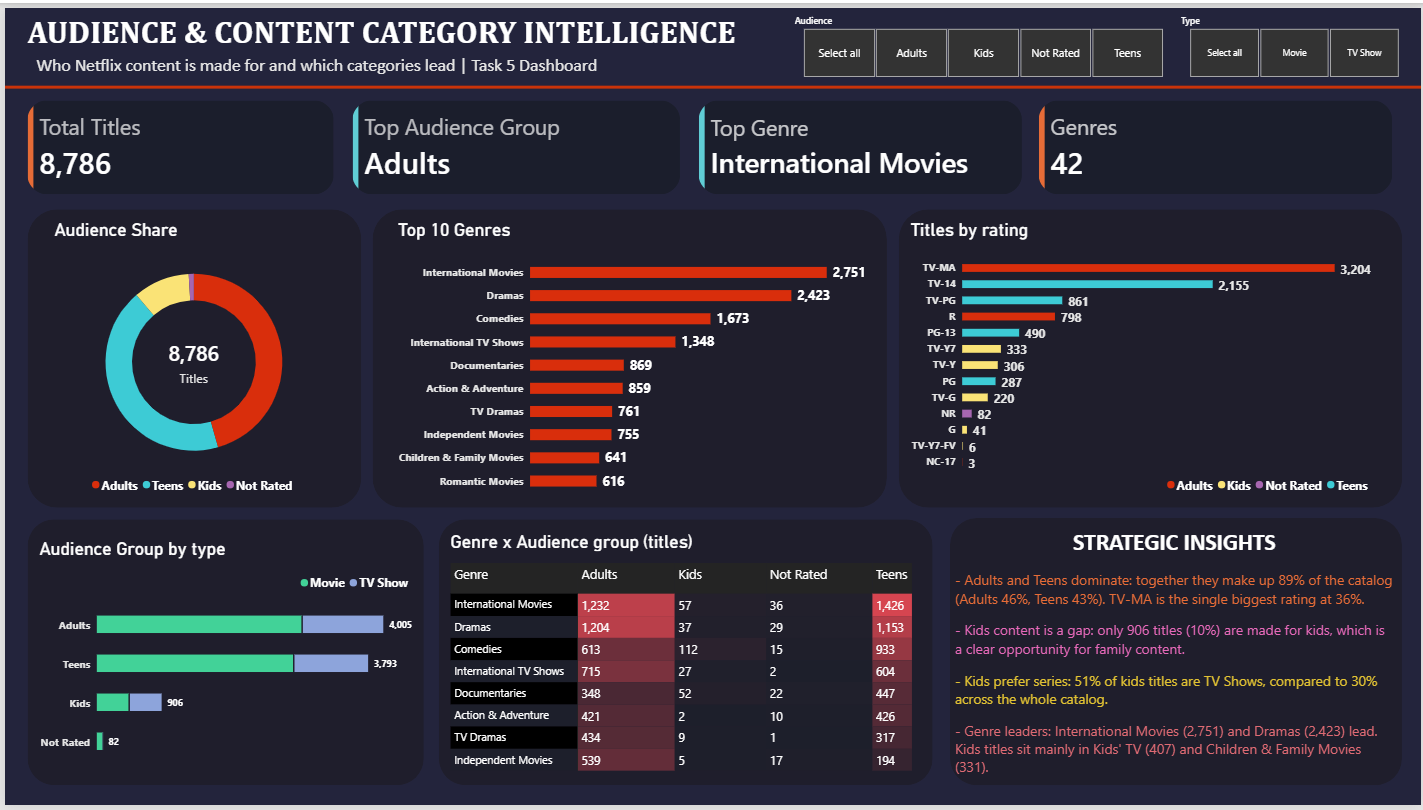

The dashboard page shown, as its layout file describes it:
{"tool":"powerbi","page":{"name":"Task 5 - Audience & Category","canvas":[1920,1080],"ordinal":2},"visuals":[{"type":"shape","box":[31.3,272.4,452.8,404.9],"z":0},{"type":"shape","box":[1211,272.4,682.8,404.9],"z":1000},{"type":"shape","box":[31.3,693.9,537.4,360.7],"z":2000},{"type":"shape","box":[589,693.9,669.9,360.7],"z":3000},{"type":"shape","box":[1281,692,612.9,362.6],"z":4000},{"type":"shape","box":[0,90.6,1920.4,35],"z":5000},{"type":"cardVisual","fields":{"Data":["Netflix_Main.Total Titles"]},"box":[30.9,125.6,415.8,127.6],"z":6000},{"type":"cardVisual","fields":{"Data":["Netflix_Main.Top Audience Group"]},"box":[471.4,125.6,444.6,127.6],"z":7000},{"type":"cardVisual","fields":{"Data":["Netflix_Main.Top Genre"]},"box":[940.7,125.6,438.4,127.6],"z":8000},{"type":"cardVisual","fields":{"Data":["Netflix_Main.Genre_count"]},"box":[1401.7,125.6,479.6,127.6],"z":9000},{"type":"slicer","fields":{"Values":["Netflix_Main.type"]},"box":[1586.5,9.2,322.1,86.5],"z":10000},{"type":"textbox","box":[31.3,7.4,982.8,60.7],"z":11000},{"type":"textbox","box":[31.3,57.1,300,47.9],"z":12000},{"type":"textbox","box":[42.3,62.6,971.8,33.1],"z":13000},{"type":"shape","box":[498.8,272.4,697.5,404.9],"z":14000},{"type":"donutChart","title":"Audience Share","fields":{"Category":["Netflix_Main.Audience_Group"],"Y":["Netflix_Main.Total Titles"]},"box":[51.5,272.4,410.4,404.9],"z":15000},{"type":"clusteredBarChart","title":"Top 10 Genres","fields":{"Category":["Genres.Genre"],"Y":["Netflix_Main.Genre Titles"]},"box":[517.2,272.4,666.3,404.9],"z":16000},{"type":"barChart","title":"Titles by rating ","fields":{"Category":["Netflix_Main.rating"],"Series":["Netflix_Main.Audience_Group"],"Y":["Netflix_Main.Total Titles"]},"box":[1211,272.4,657.1,404.9],"z":17000},{"type":"barChart","title":" Audience Group by type","fields":{"Category":["Netflix_Main.Audience_Group"],"Series":["Netflix_Main.type"],"Y":["Netflix_Main.Total Titles"]},"box":[31.3,704.9,537.4,340.5],"z":18000},{"type":"pivotTable","title":"Genre x Audience group (titles)","fields":{"Columns":["Netflix_Main.Audience_Group"],"Rows":["Genres.Genre"],"Values":["Netflix_Main.Genre Titles"]},"box":[589,695.7,669.9,358.9],"z":19000},{"type":"textbox","box":[1288.4,704.9,594.5,340.5],"z":20000},{"type":"slicer","fields":{"Values":["Netflix_Main.Audience_Group"]},"box":[1062,9.2,526.4,86.5],"z":21000}]}

Visuals, with their boxes in screenshot pixels (x1, y1, x2, y2), scaled from the page's 1920x1080 canvas onto the 1423x810 screenshot:
shape: (23, 204, 359, 508)
shape: (898, 204, 1404, 508)
shape: (23, 520, 421, 791)
shape: (437, 520, 933, 791)
shape: (949, 519, 1404, 791)
shape: (0, 68, 1422, 94)
cardVisual - Netflix_Main.Total Titles: (23, 94, 331, 190)
cardVisual - Netflix_Main.Top Audience Group: (349, 94, 679, 190)
cardVisual - Netflix_Main.Top Genre: (697, 94, 1022, 190)
cardVisual - Netflix_Main.Genre_count: (1039, 94, 1394, 190)
slicer - Netflix_Main.type: (1176, 7, 1415, 72)
textbox: (23, 6, 752, 51)
textbox: (23, 43, 246, 79)
textbox: (31, 47, 752, 72)
shape: (370, 204, 887, 508)
"Audience Share" donutChart: (38, 204, 342, 508)
"Top 10 Genres" clusteredBarChart: (383, 204, 877, 508)
"Titles by rating " barChart: (898, 204, 1385, 508)
" Audience Group by type" barChart: (23, 529, 421, 784)
"Genre x Audience group (titles)" pivotTable: (437, 522, 933, 791)
textbox: (955, 529, 1396, 784)
slicer - Netflix_Main.Audience_Group: (787, 7, 1177, 72)
